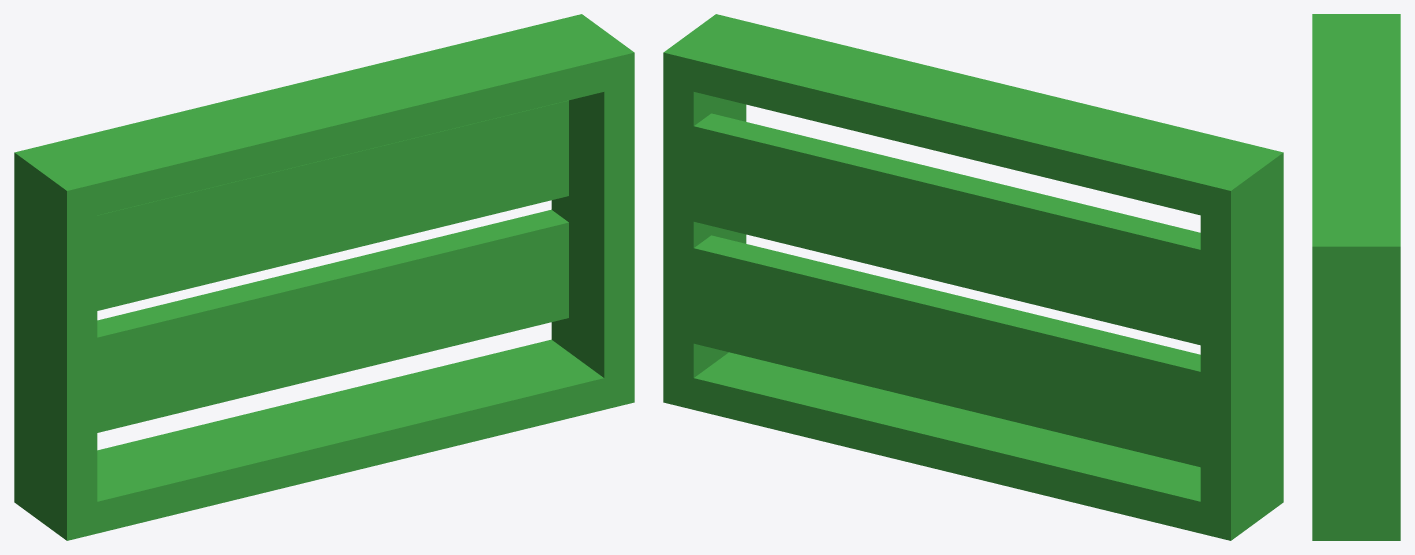
The model's file is tinker.obj.
3 views of the same model, side by side, from view 1: azimuth 30°, elevation 25°; view 2: azimuth 150°, elevation 25°; view 3: azimuth 270°, elevation 25° (orthographic). The views are drawn at different scales.
Visible parts, largest first — view 1: obj_0; view 2: obj_0; view 3: obj_0.
Part boxes in pixels (box(x1,y1,x2,y2)): obj_0: box(14, 14, 634, 540); obj_0: box(663, 14, 1283, 540); obj_0: box(1312, 14, 1400, 540).
Bounding box in the file's own units: 224 × 132 × 36.
